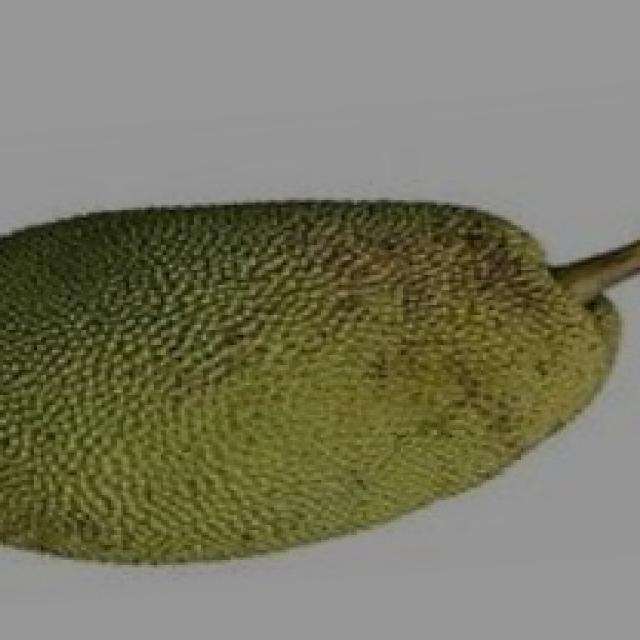Fruit: (0, 192, 403, 602), (255, 172, 637, 558)
